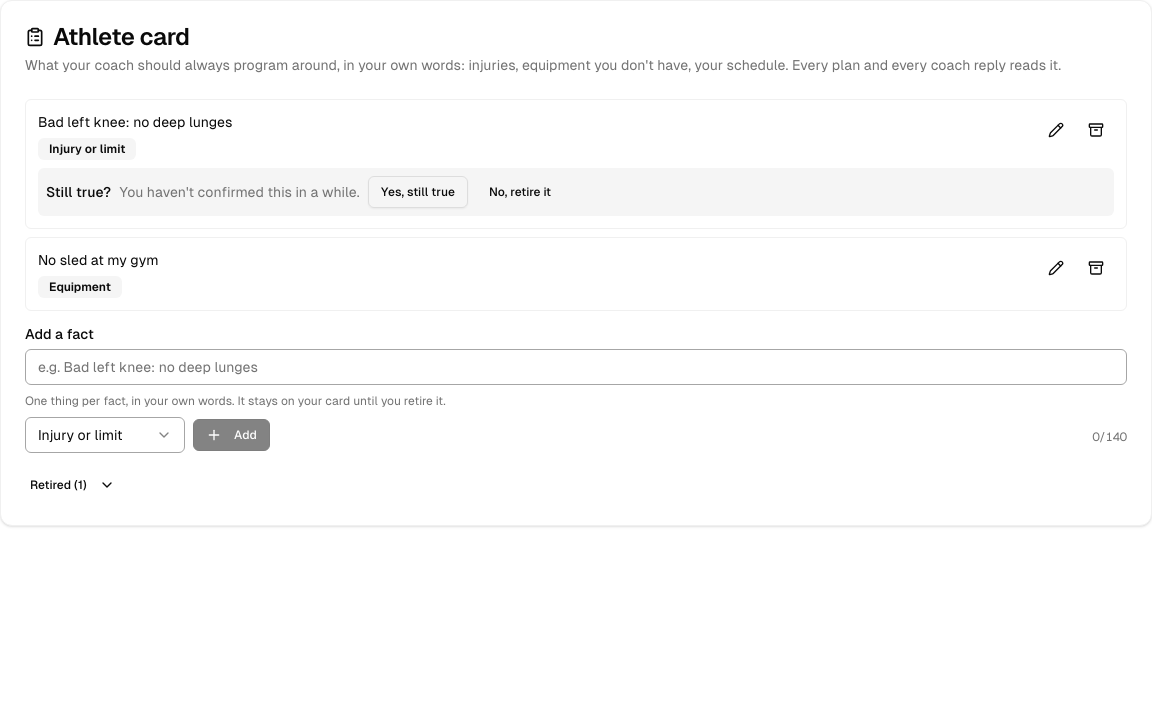
it: AthleteCardSection › keeps a retired fact when the athlete cancels 'Delete forever'
Click the button "Retired (1)" at (72, 485), box [17,469,128,501]
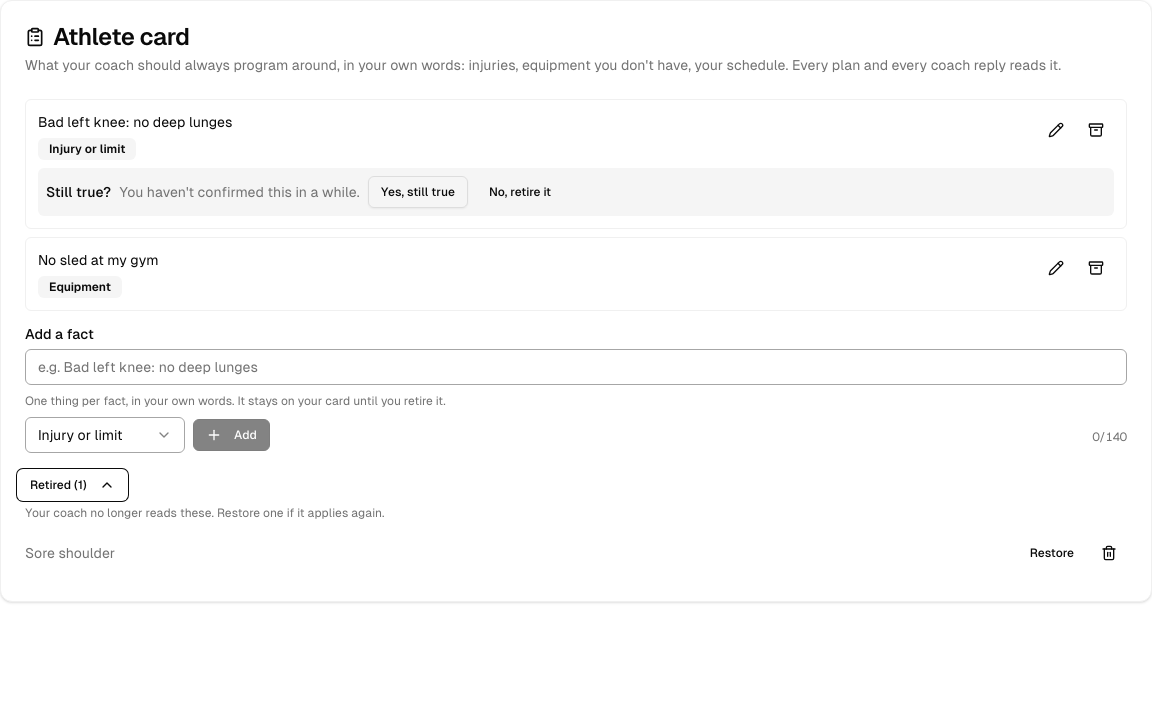
Click the button named "Delete \"Sore shoulder\"" at (1109, 553), box [1091,535,1127,571]
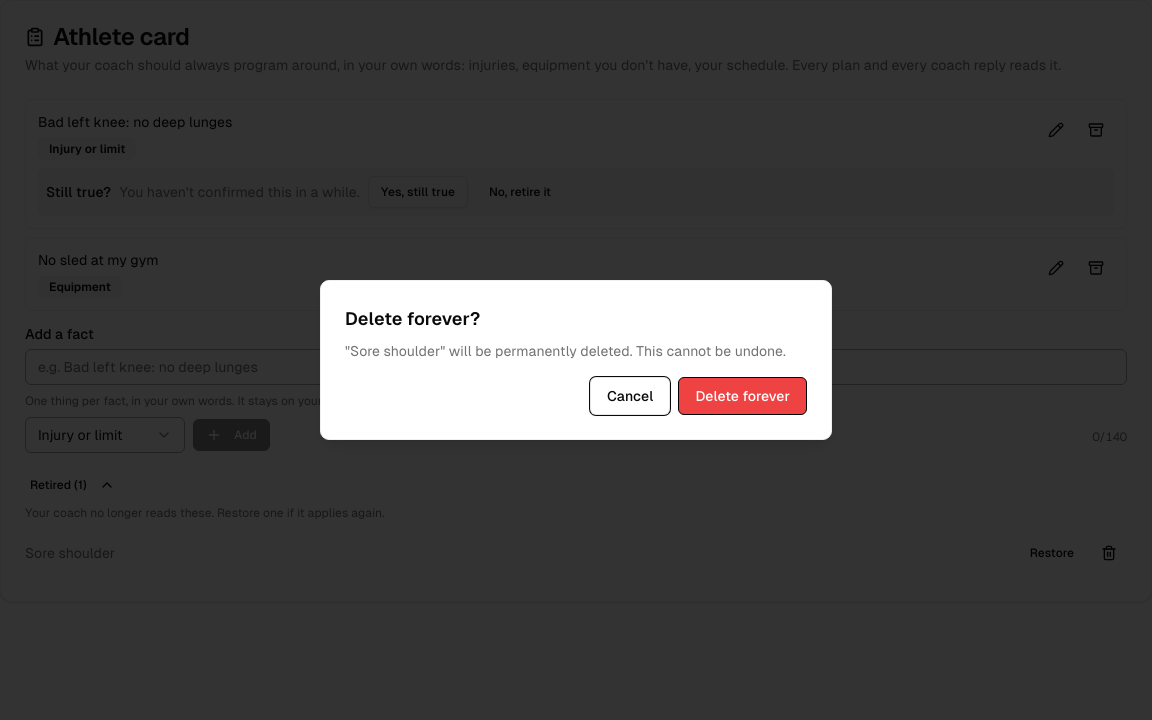
Click the button with test id "cancel-delete-retired-fact" at (630, 396), box [590,377,670,415]
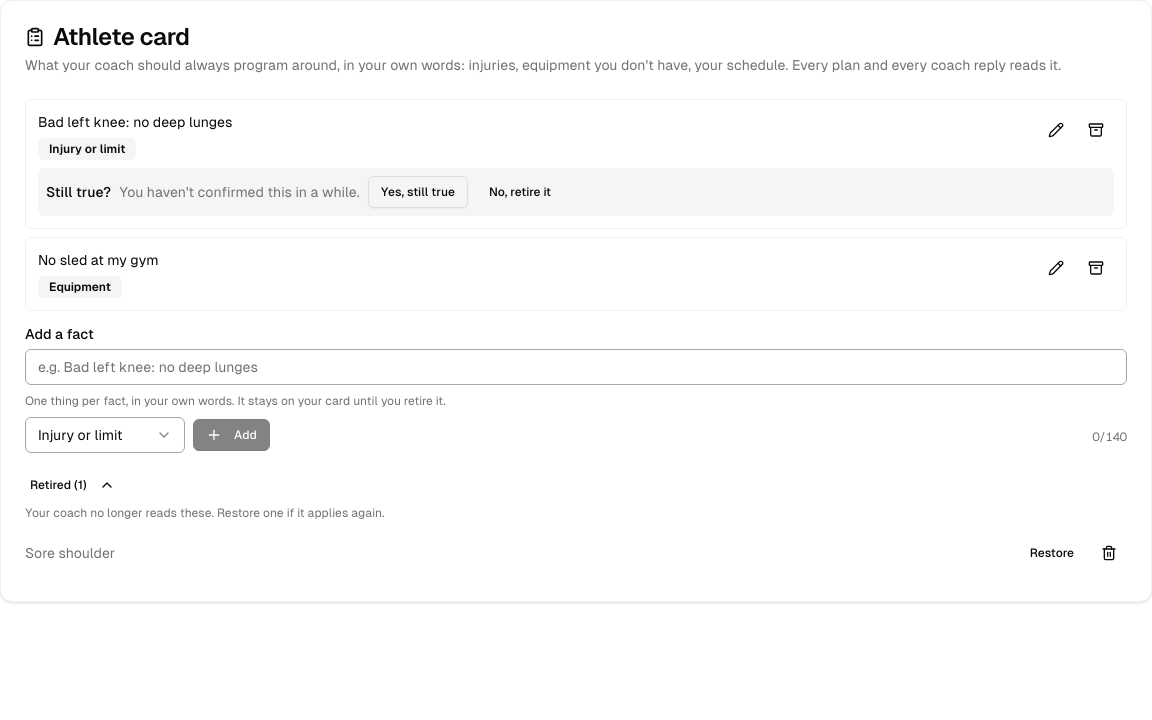
Now the dialog is gone
